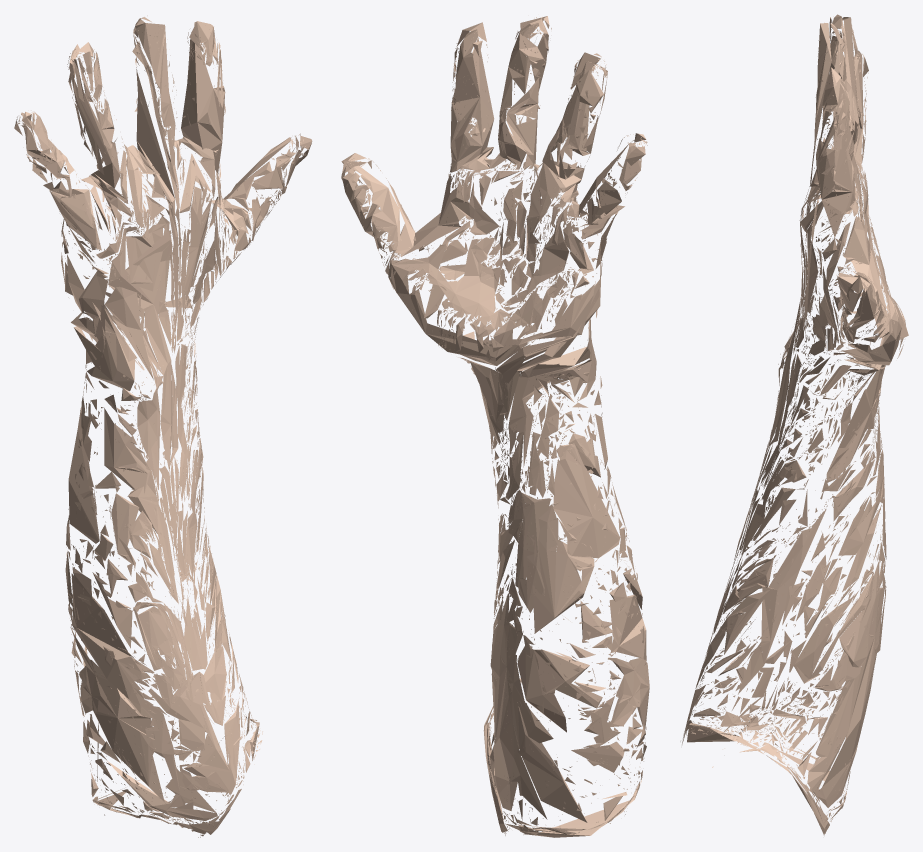
Rendered from hand_arm.glb.
The picture shows the model from 3 angles, left to right: view 1: azimuth 30°, elevation 25°; view 2: azimuth 150°, elevation 25°; view 3: azimuth 270°, elevation 25°; orthographic projection. The views are drawn at different scales.
Parts seen in each view (by area): view 1: world; view 2: world; view 3: world.
Part boxes in pixels (box(x1,y1,x2,y2)): world: box(14, 15, 312, 837); world: box(341, 16, 649, 837); world: box(680, 14, 908, 835).
Size of the model in its own units: 0.1668 by 0.4325 by 0.1132.
